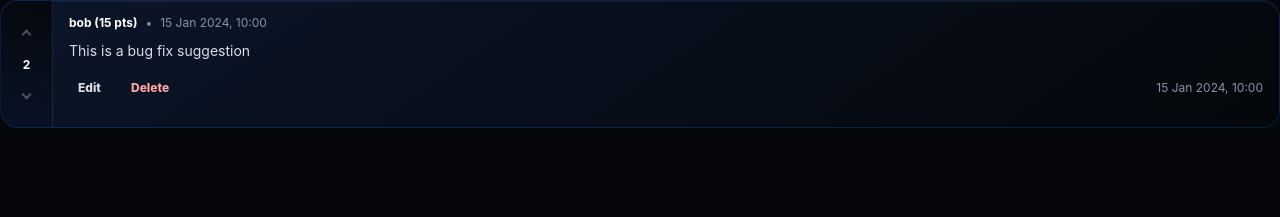
Scenario: CommentItem — edit mode › shows textarea and Save/Cancel when Edit is clicked
The image size is (1280, 217).
Click the button "Edit".
click(90, 87)  # box left=69, top=73, right=110, bottom=101
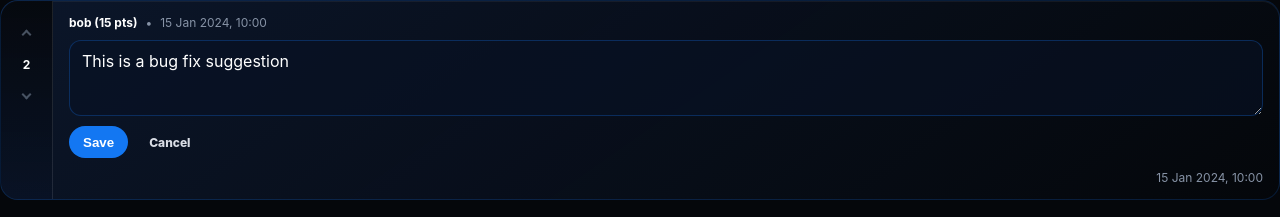
Result: the text box is shown at left=69, top=40, right=1263, bottom=116
Result: the button "Save" is shown at left=69, top=126, right=128, bottom=158
Result: the button "Cancel" is shown at left=140, top=128, right=200, bottom=156
